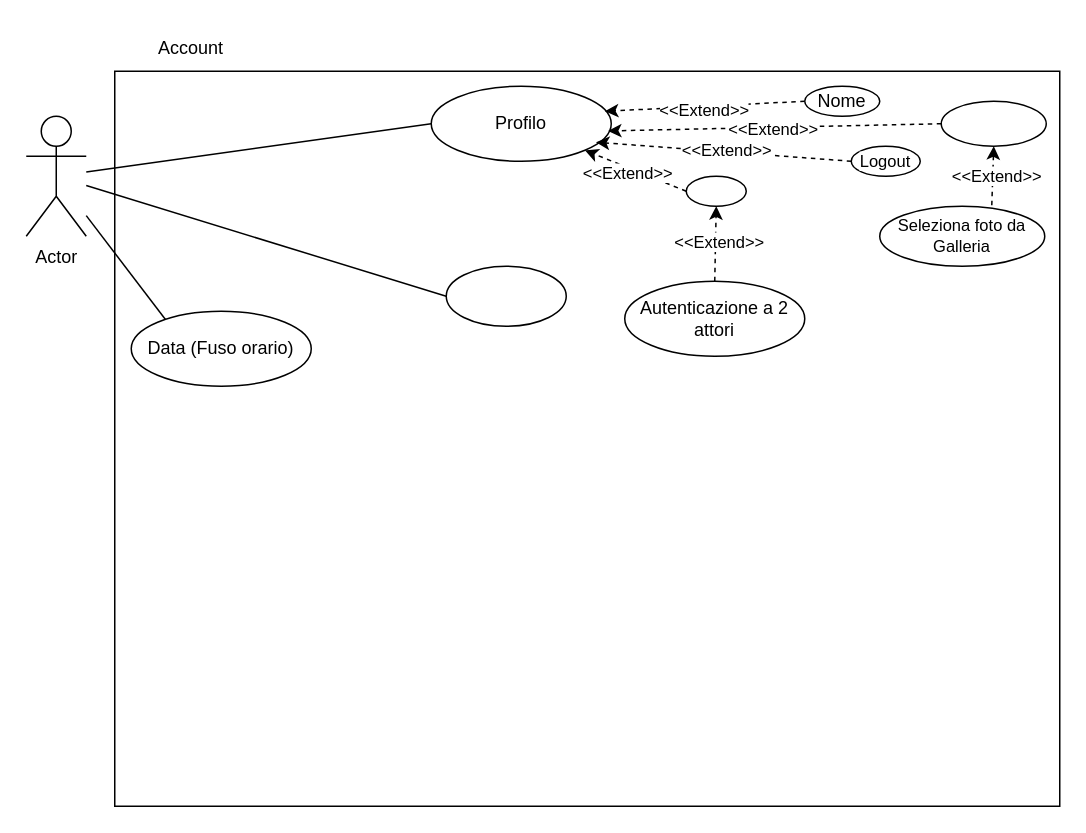
This 1086x833 diagram has some shape labels left out. Each missing label, with the centre of its shape:
"Foto profilo" belongs at [993,123].
"Lista amici" belongs at [505,295].
"Login" belongs at [715,190].
